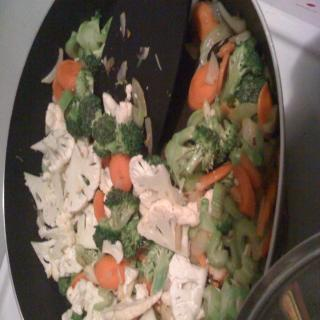Broccoli: (92, 185, 174, 296), (64, 93, 145, 158), (220, 39, 268, 106), (184, 124, 221, 175)
Salad: (0, 5, 289, 320)
